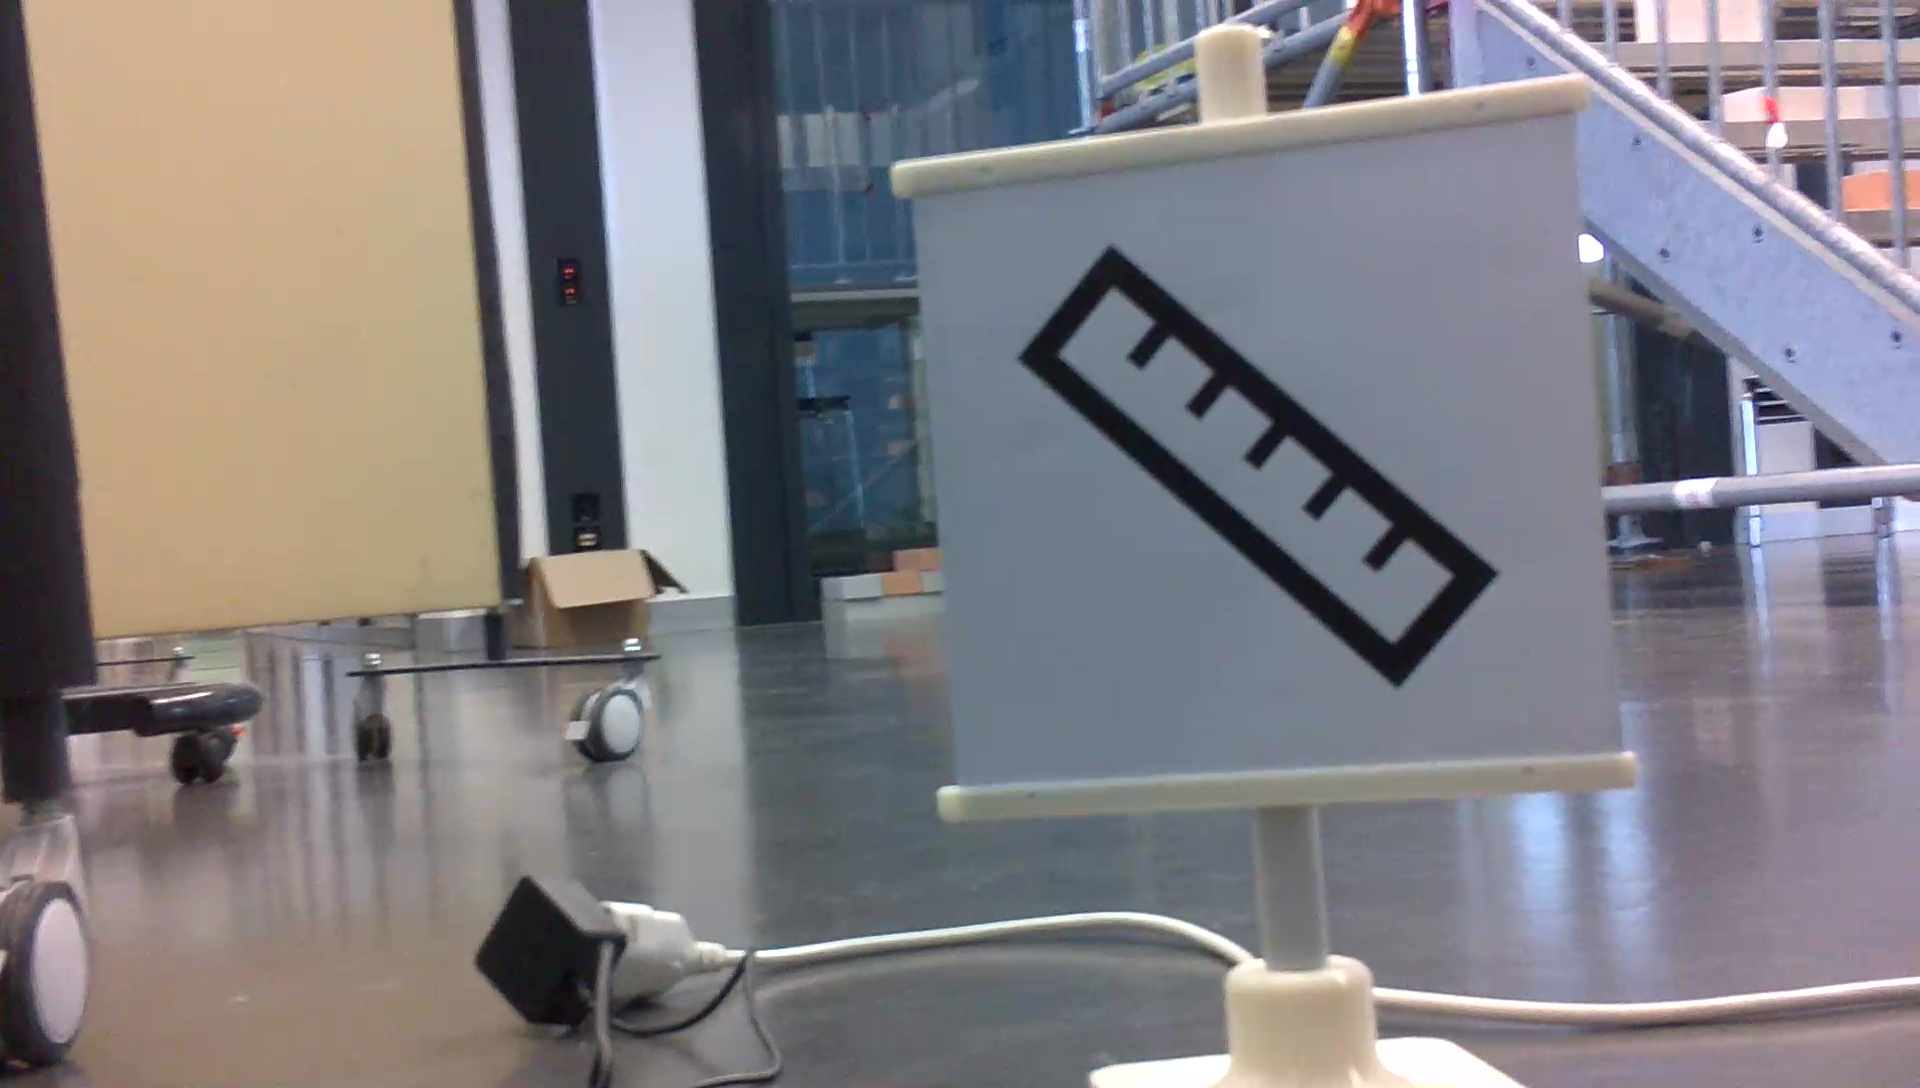ruler: (1019, 211, 1515, 703)
